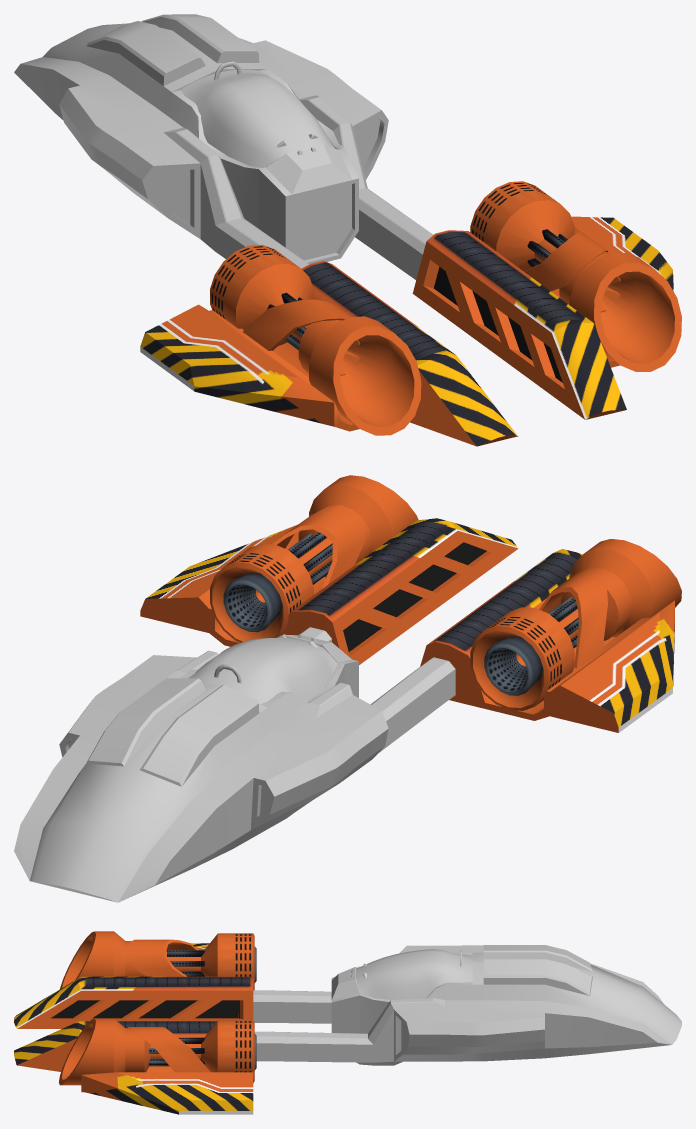
Rendered from Car_Main.fbx.
3 renders of one model, top to bottom at view 1: azimuth 30°, elevation 25°; view 2: azimuth 150°, elevation 25°; view 3: azimuth 270°, elevation 25°, orthographic. The views are drawn at different scales.
Parts seen in each view (by area): view 1: CarBody, Wing_Right, Wing_Left, Car_Hood, Wing_Left_Fans; view 2: CarBody, Wing_Left, Wing_Right, Car_Hood, Wing_Left_Fans; view 3: CarBody, Wing_Left, Wing_Right, Car_Hood, Wing_Right_Fans, Wing_Left_Fans.
Boxes of the visible parts, box(x1,y1,x2,y2) form: CarBody: box(14, 14, 433, 279); Wing_Right: box(140, 245, 518, 446); Wing_Left: box(412, 181, 681, 419); Car_Hood: box(180, 69, 334, 167); Wing_Left_Fans: box(527, 229, 620, 312); CarBody: box(14, 627, 455, 902); Wing_Left: box(140, 475, 518, 664); Wing_Right: box(420, 539, 681, 732); Car_Hood: box(188, 637, 337, 704); Wing_Left_Fans: box(288, 532, 332, 584); CarBody: box(253, 945, 681, 1065); Wing_Left: box(14, 1018, 256, 1114); Wing_Right: box(14, 931, 256, 1028); Car_Hood: box(356, 949, 472, 999); Wing_Right_Fans: box(166, 950, 204, 976); Wing_Left_Fans: box(148, 1037, 204, 1066).
Size of the model in its own units: 3.85 by 1.18 by 6.79.
